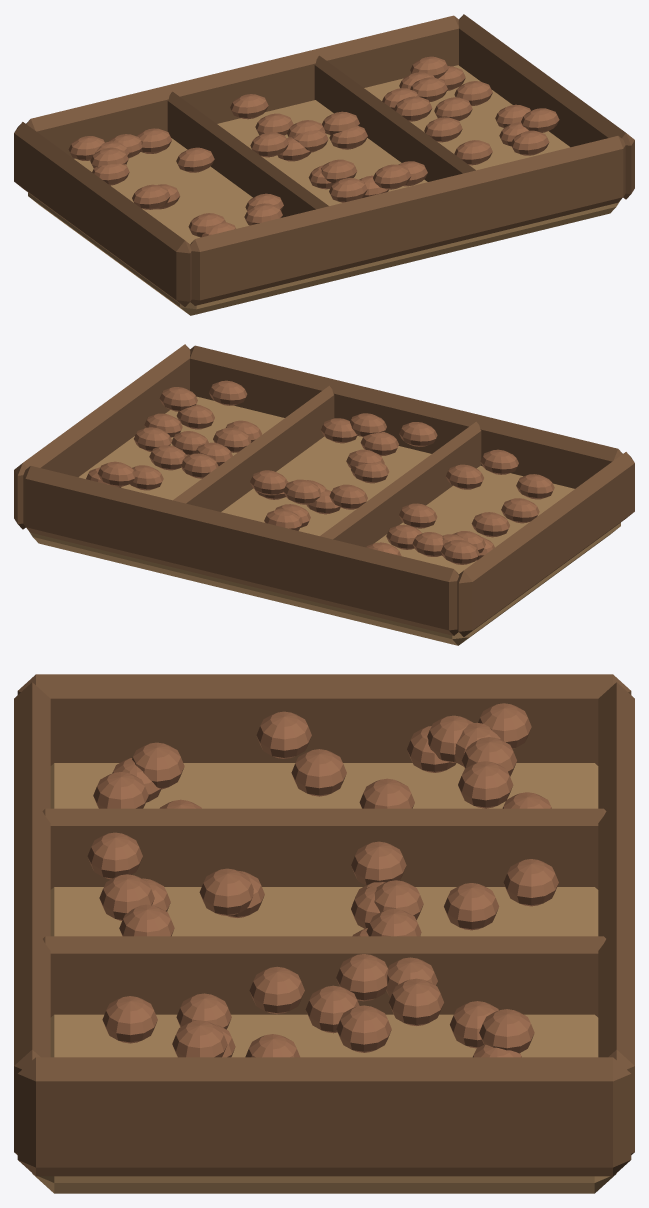
The picture shows the model from 3 angles, top to bottom: view 1: azimuth 30°, elevation 25°; view 2: azimuth 150°, elevation 25°; view 3: azimuth 270°, elevation 25°; orthographic projection. The views are drawn at different scales.
Parts seen in each view (by area): view 1: BA-0045 batched; view 2: BA-0045 batched; view 3: BA-0045 batched.
Boxes of the visible parts, left/top/right/bottom form: BA-0045 batched: left=14, top=14, right=634, bottom=315; BA-0045 batched: left=14, top=344, right=634, bottom=645; BA-0045 batched: left=14, top=674, right=634, bottom=1193.
Bounding box in the file's own units: 0.645 × 0.11 × 0.425.
